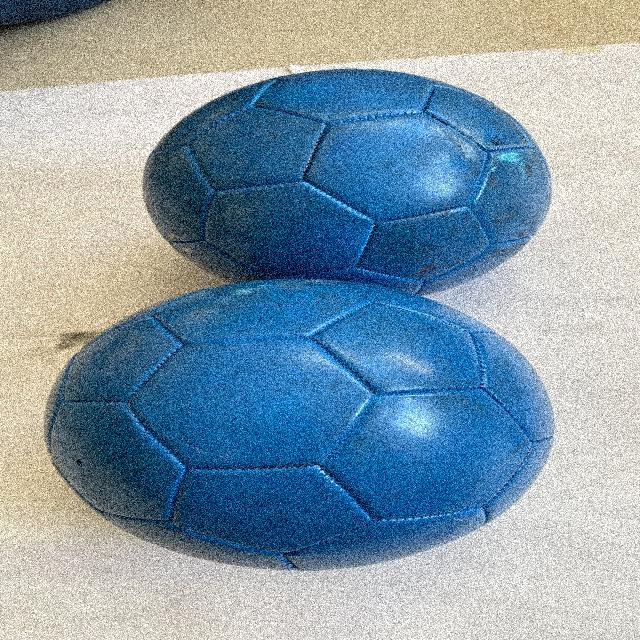blue_ball: (54, 281, 547, 555), (156, 70, 564, 289)
